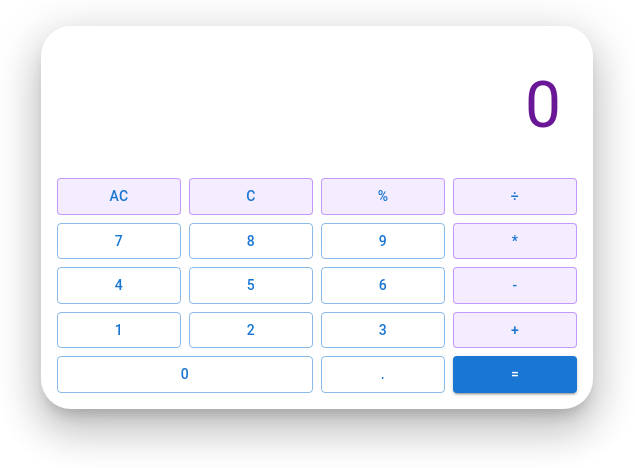
Scenario: calculator tests › Does addition correctly
Click the button "1" at (119, 330), box [57, 312, 181, 348]
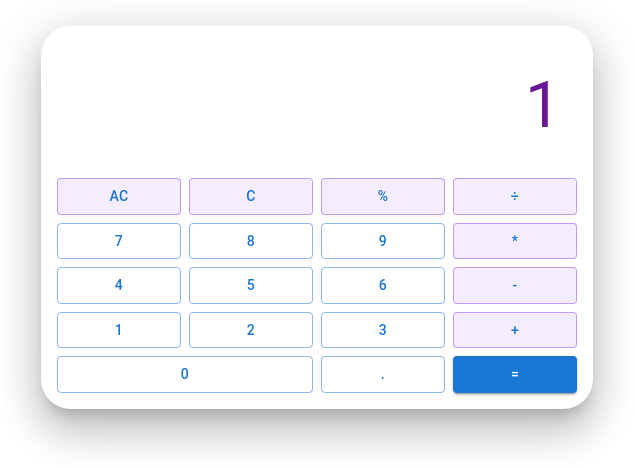
Click the button "0" at (185, 374), box [57, 356, 313, 392]
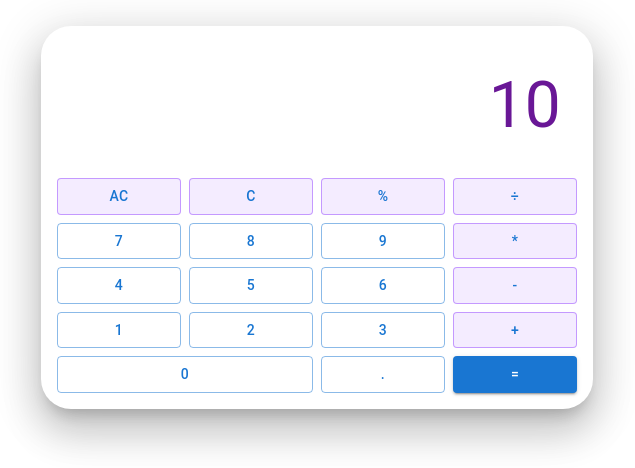
Click the button "+" at (515, 330), box [453, 312, 577, 348]
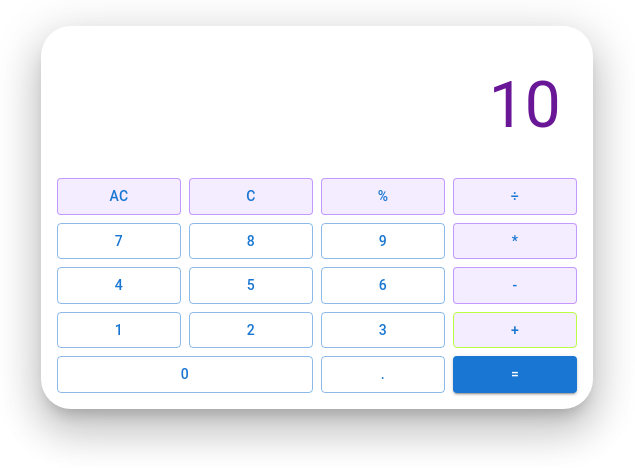
Click the button "5" at (251, 285), box [189, 267, 313, 304]
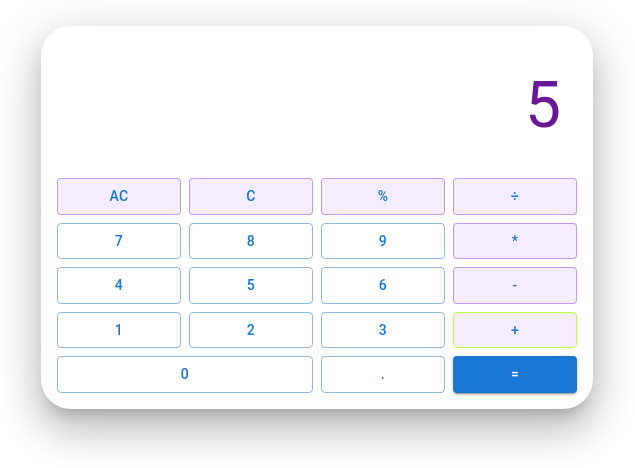
Click the button "=" at (515, 374), box [453, 356, 577, 392]
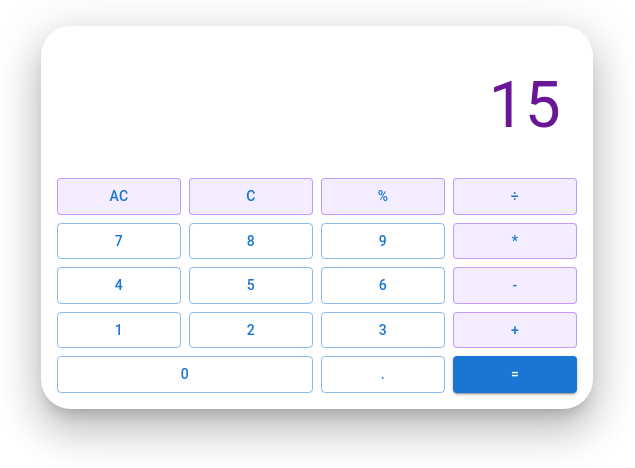
Now the text with test id "output" reads "15", box [489, 68, 561, 143]
